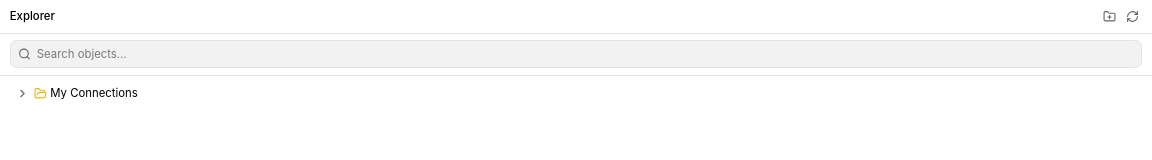
Test: DatabaseExplorer › renders the connection tree root and expands to show a connection
The image size is (1152, 160).
Expected: the text "My Connections" is shown, [50, 85, 138, 102]
Expected: the text "Prod MySQL" is not shown
What coordinates should you click on to do the following:
click the 3rd button
I would click on:
 (23, 93)
Its box is [14, 85, 31, 102].
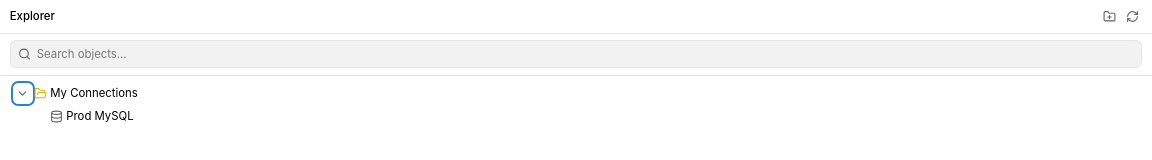
Expected: the text "Prod MySQL" is shown, [66, 108, 134, 124]
